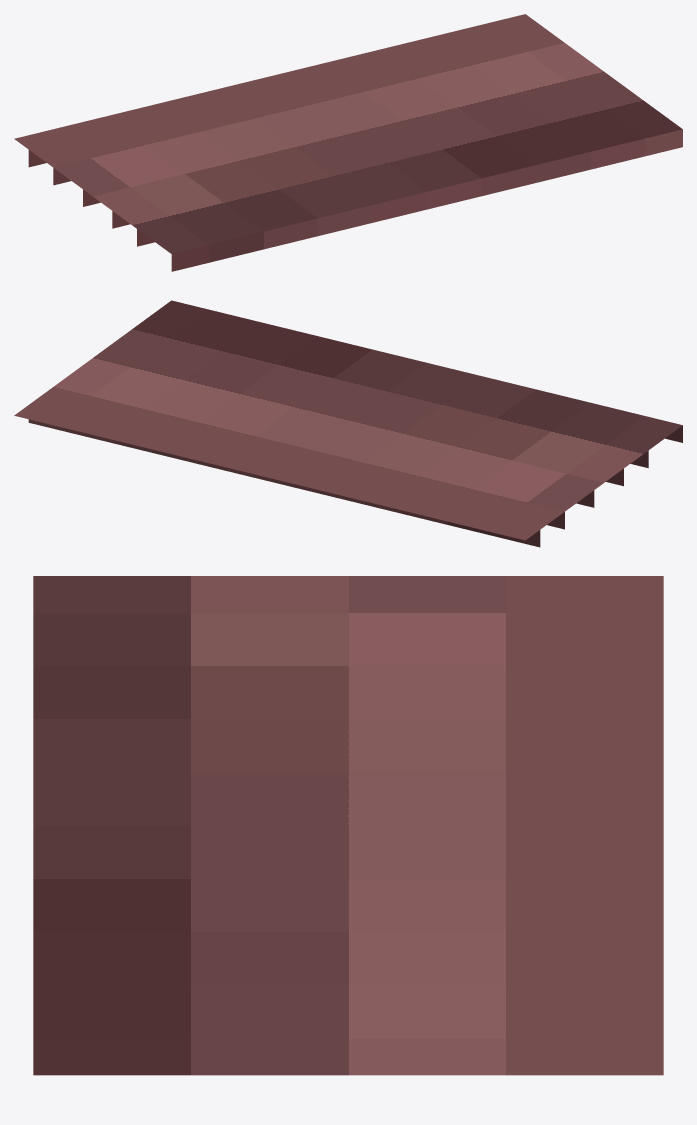
The model's file is FridgeShelf.obj.
The picture shows the model from 3 angles, top to bottom: view 1: azimuth 30°, elevation 25°; view 2: azimuth 150°, elevation 25°; view 3: azimuth 270°, elevation 25°; orthographic projection. The views are drawn at different scales.
Visible parts, largest first — view 1: Default; view 2: Default; view 3: Default.
Boxes of the visible parts, x1,y1,x2,y2 form: Default: (14,14,682,271); Default: (14,300,682,547); Default: (33,576,663,1075).
Size of the model in its own units: 3.75 by 0.125 by 2.
